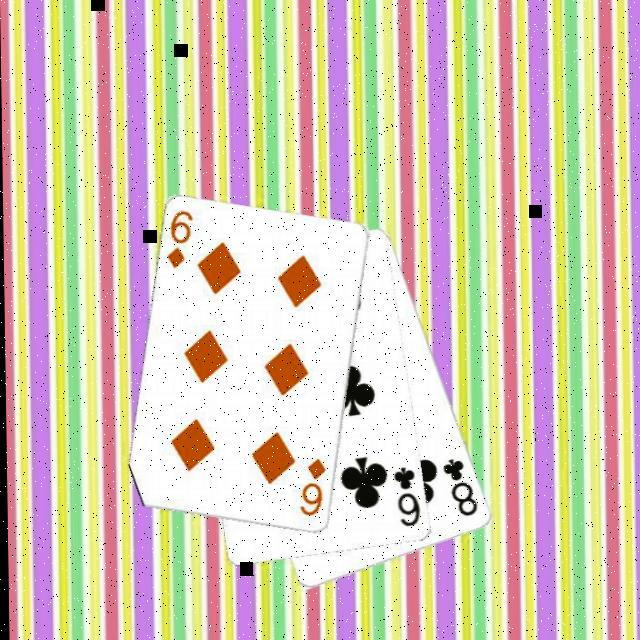6C: (392, 466, 424, 532)
6D: (296, 458, 330, 522), (165, 210, 198, 274)
8C: (440, 458, 481, 522)
